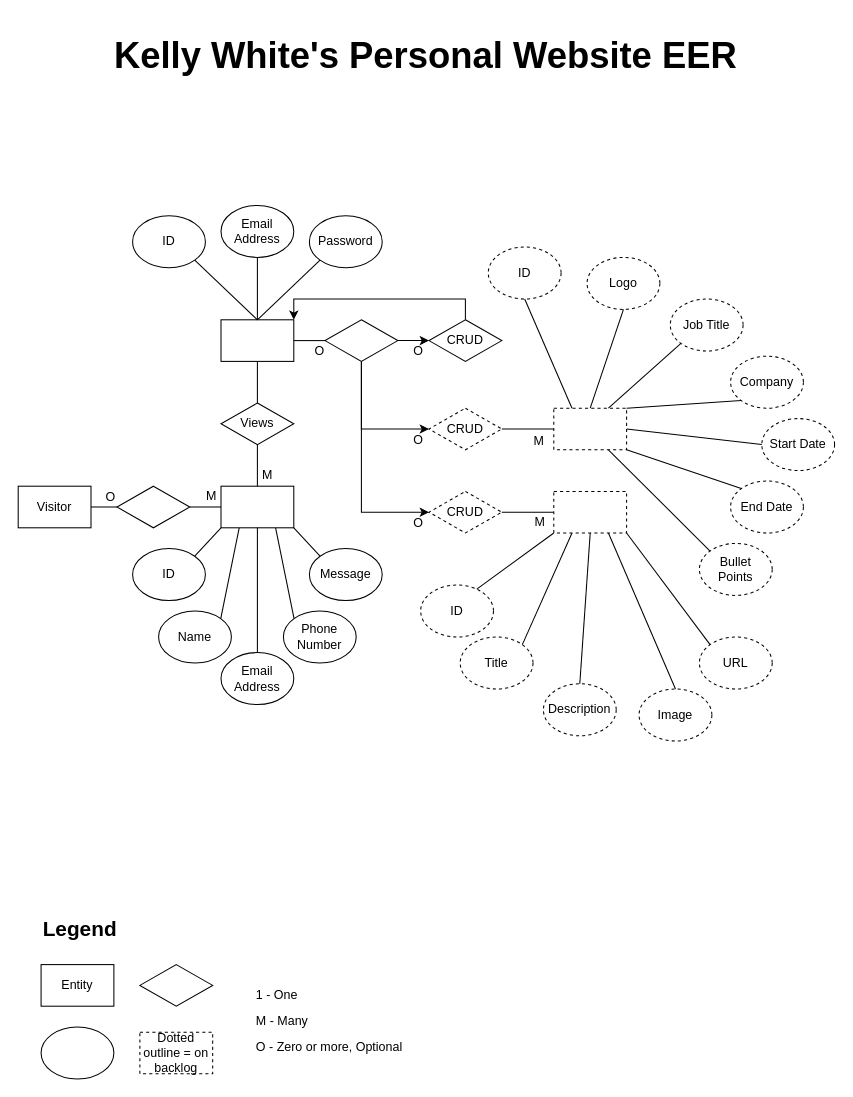
Image size: 853x1097. Some labels were removed from this diagram. The centre of each missing label's shape, as x and y in pixels:
"Action" belongs at pixel 176 985.
"Attribute" belongs at pixel 77 1052.
"Contact Form Entry" belongs at pixel 257 506.
"Logs in" belongs at pixel 361 340.
"Portfolio Item" belongs at pixel 590 511.
"Resume Item" belongs at pixel 590 428.
"Submits" belongs at pixel 153 506.
"User" belongs at pixel 257 340.
